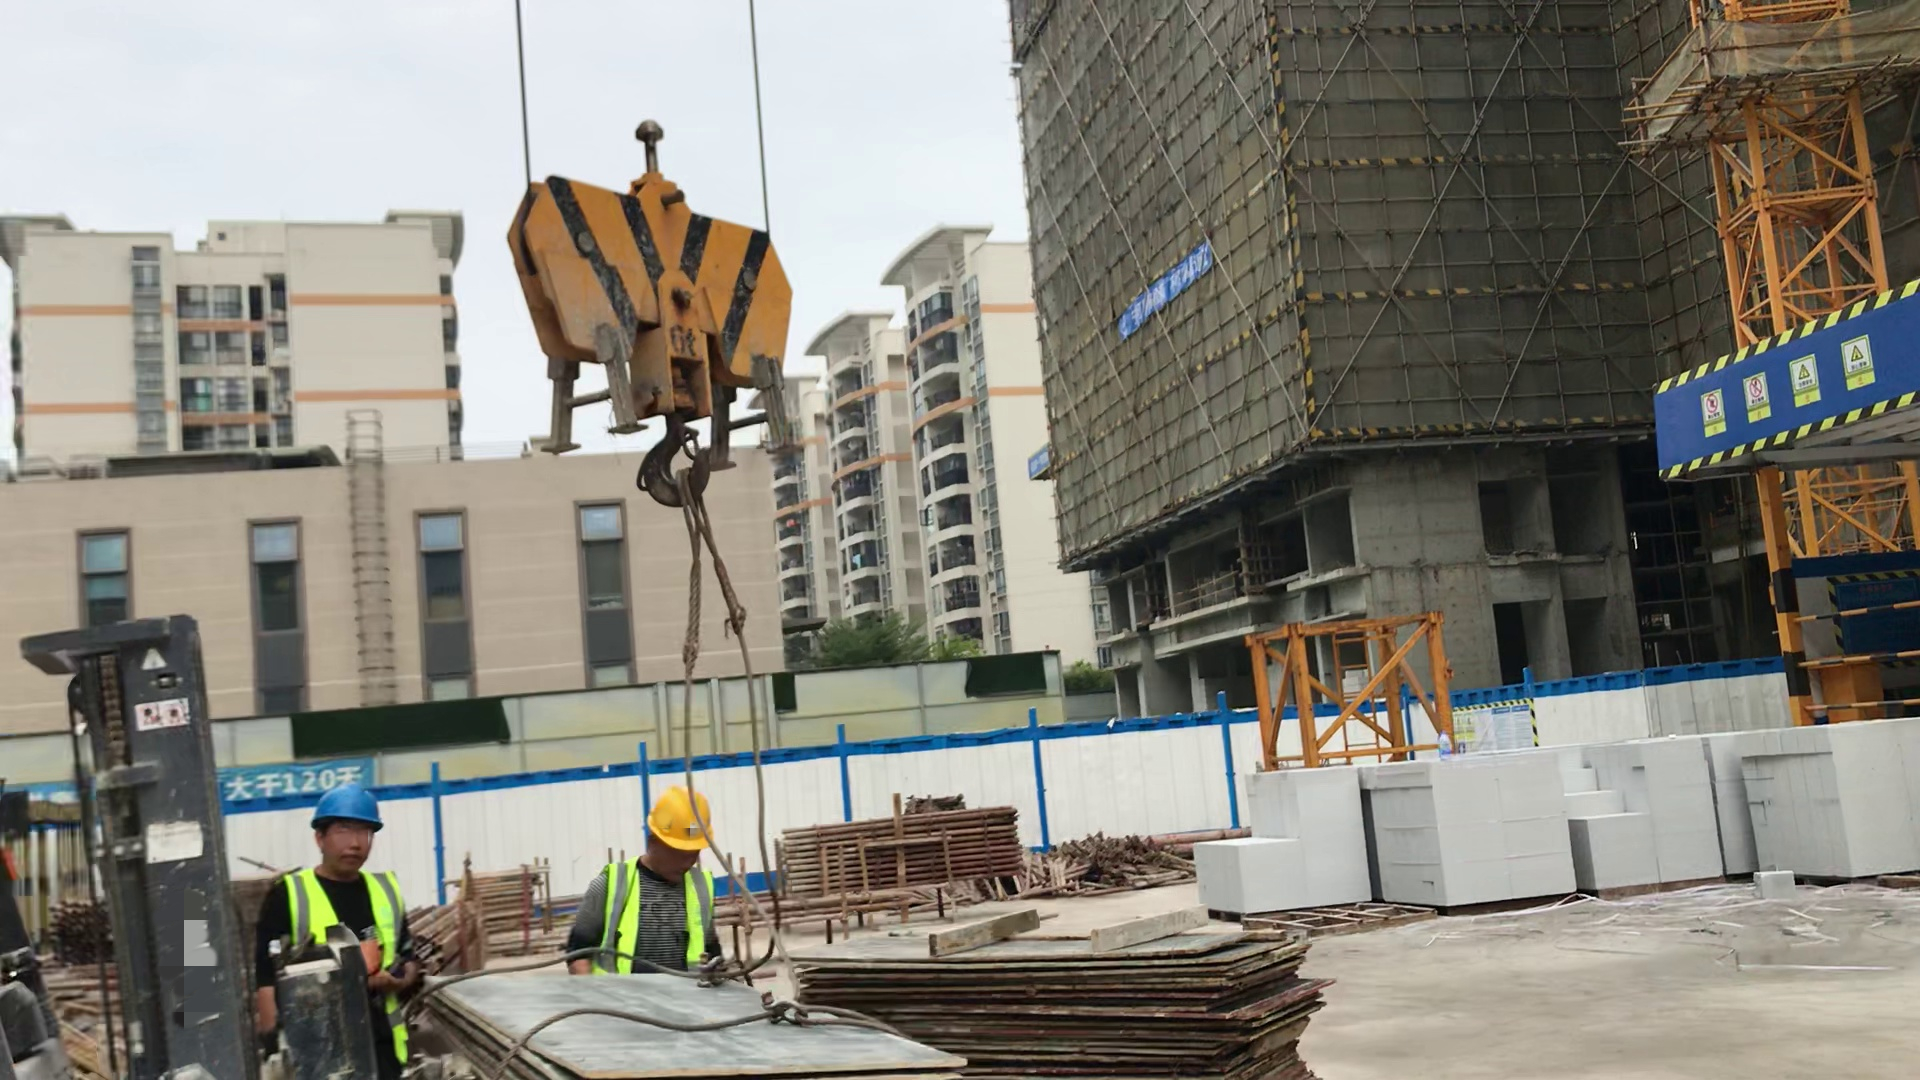board: (838, 933, 1350, 1080), (426, 960, 1032, 1080)
brick: (1376, 724, 1582, 913), (1197, 738, 1378, 918), (1568, 698, 1729, 897), (1742, 707, 1920, 877)
helmet: (638, 789, 719, 856), (303, 782, 391, 834)
hook: (508, 101, 812, 481)
person: (244, 794, 443, 1080), (554, 790, 748, 980)
scaffold: (785, 790, 1023, 905)
slogan: (1663, 342, 1912, 449), (213, 742, 376, 813), (1119, 238, 1211, 344)
vest: (275, 873, 413, 1041), (592, 859, 718, 974)
